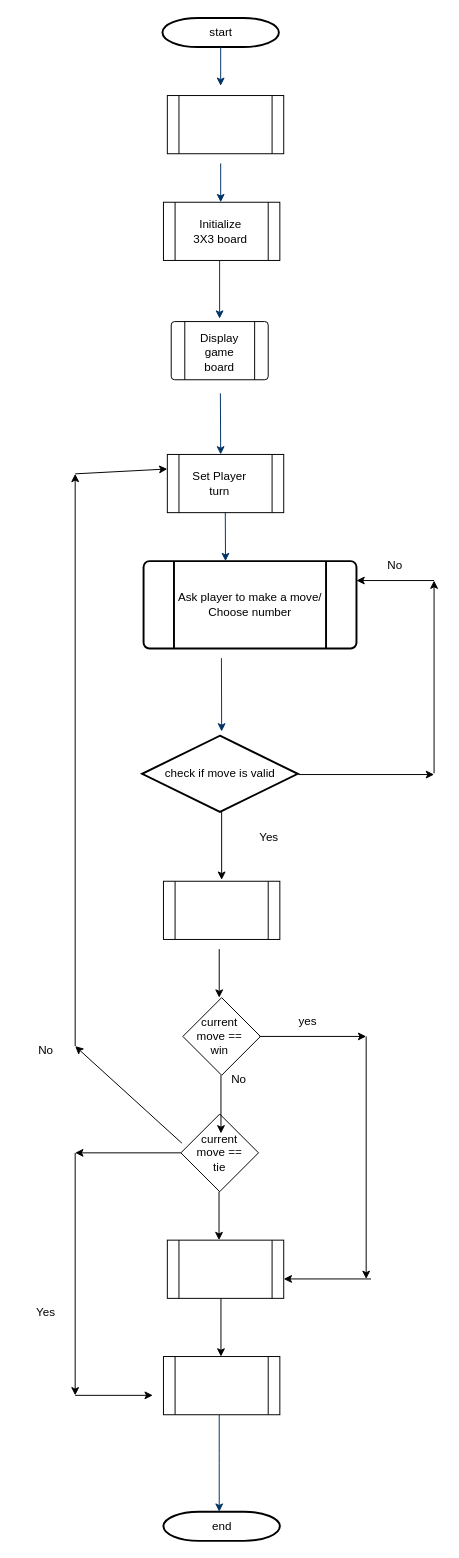
Image size: 459x1558. Some labels were removed from this diagram. The centre of each missing label's shape, as x and y in pixels:
"Display tie" belongs at point (221, 1385).
"Display winner" belongs at point (225, 1268).
"Get player names" belongs at point (225, 124).
"Update Board" belongs at point (221, 909).
